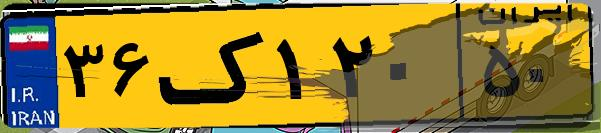0: (385, 28, 445, 110), (525, 38, 570, 115)
1: (270, 28, 330, 110)
2: (330, 28, 385, 110)
3: (57, 26, 110, 100)
5: (475, 38, 525, 113)
6: (110, 28, 158, 98)
ک: (158, 12, 270, 120)
